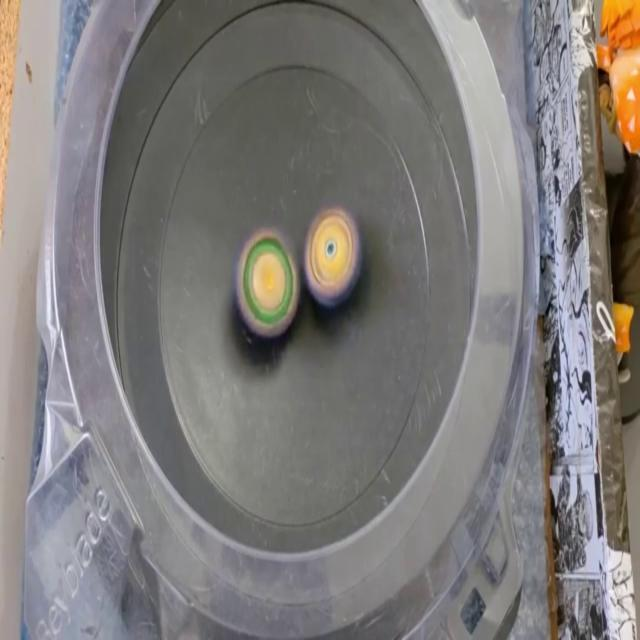Beyblade: (234, 226, 301, 339), (302, 207, 364, 305)
